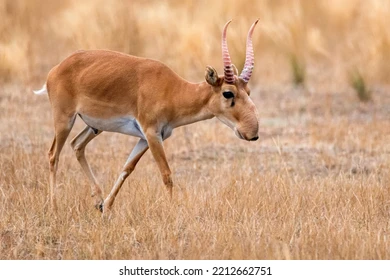saiga: (34, 18, 260, 223)
